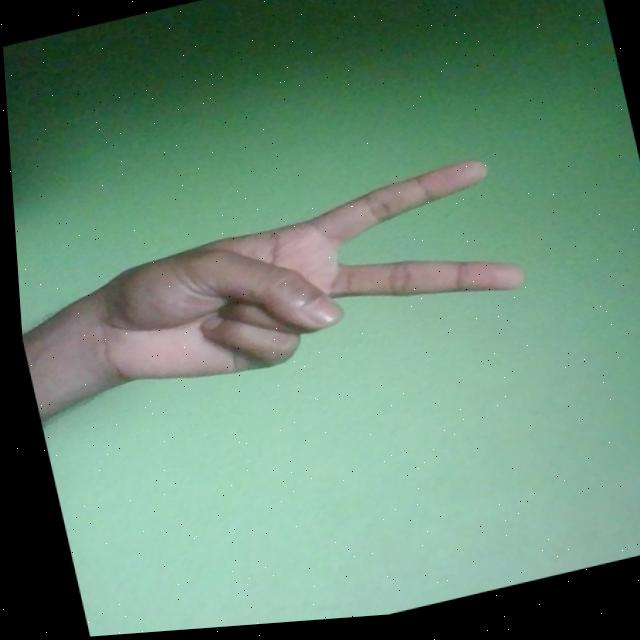Peace: (61, 158, 532, 410)
